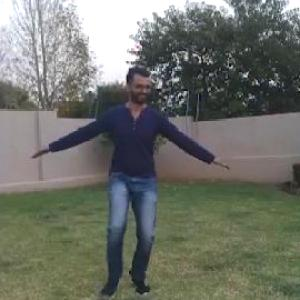land: (1, 50, 230, 299)
